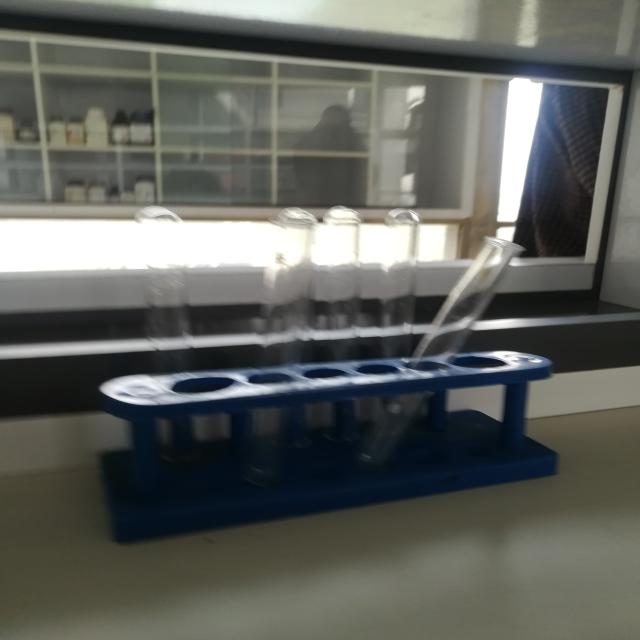Test_Tube: (114, 162, 564, 506)
